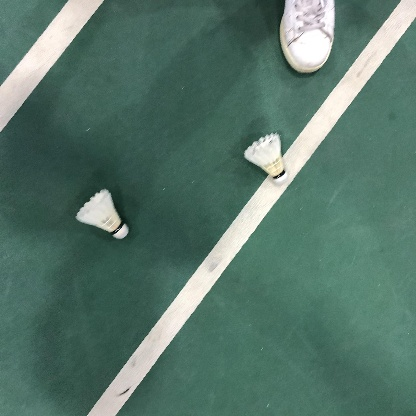ball_single: (76, 189, 129, 239), (244, 132, 287, 185)
